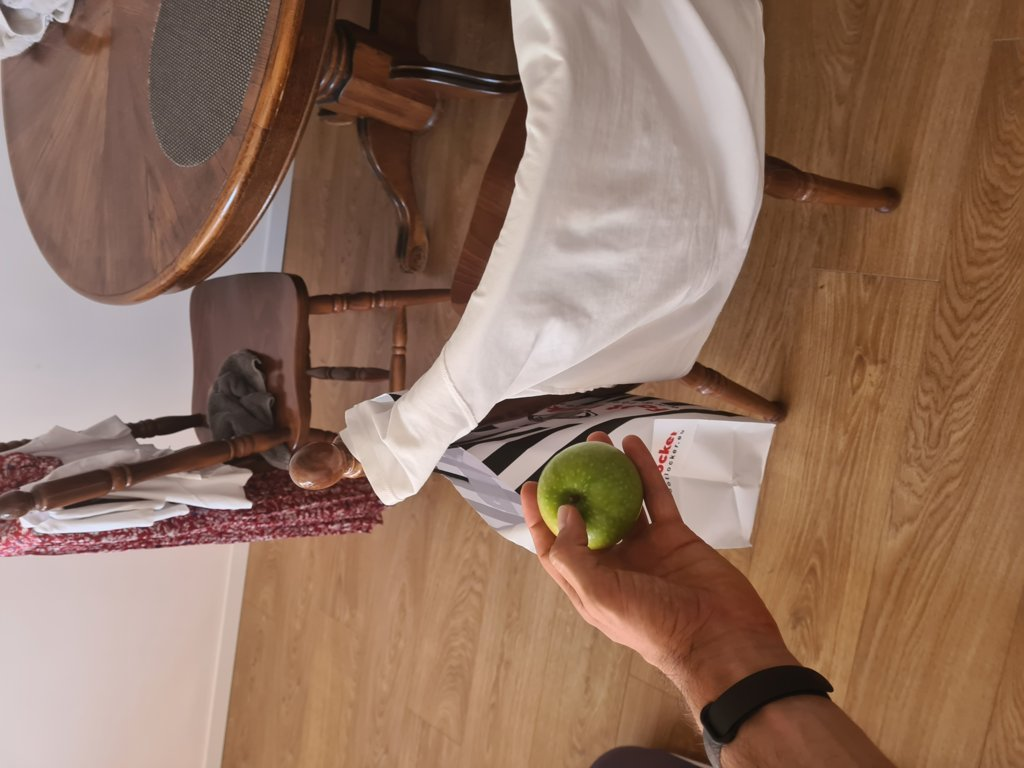apple: (537, 446, 639, 540)
